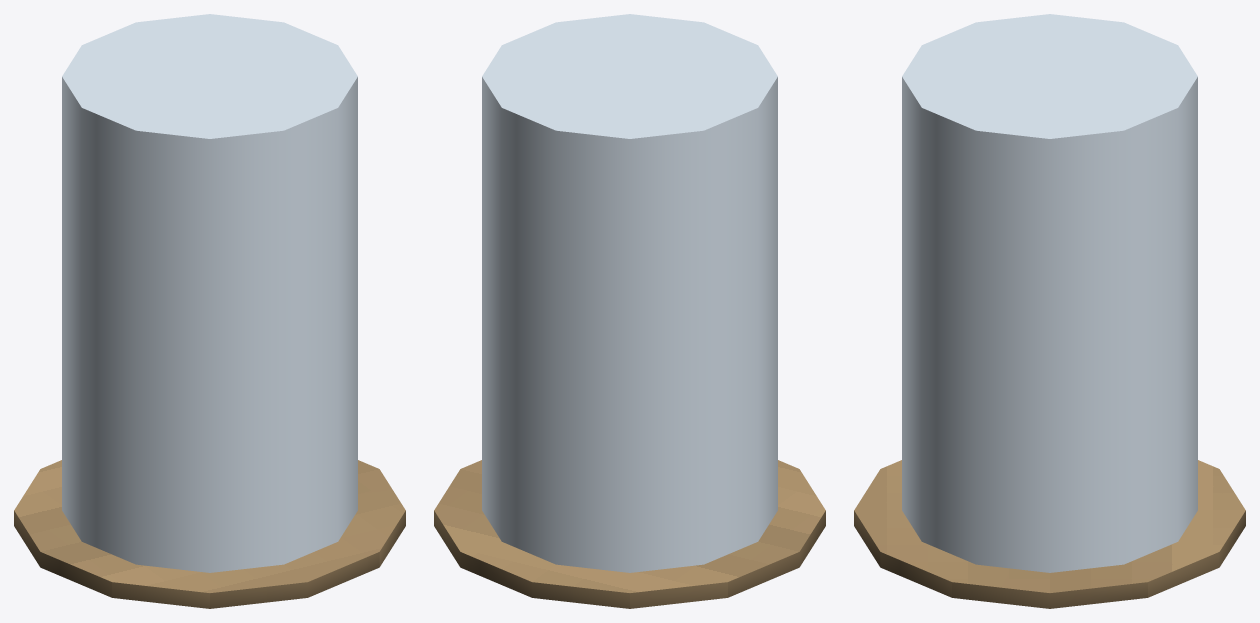
File: water_glass.glb
3 views of the same model, side by side, from view 1: azimuth 30°, elevation 25°; view 2: azimuth 150°, elevation 25°; view 3: azimuth 270°, elevation 25° (orthographic).
Parts seen in each view (by area): view 1: glass, body; view 2: glass, body; view 3: glass, body.
Part boxes in pixels (x1,y1,x2,y2): glass: (62,14,357,572); body: (14,460,405,608); glass: (482,14,777,572); body: (434,460,825,608); glass: (902,14,1197,572); body: (854,460,1245,608).
Size of what is drawn, in the model's own units: 0.09 by 0.114 by 0.09.
3 materials, 1 textured.
